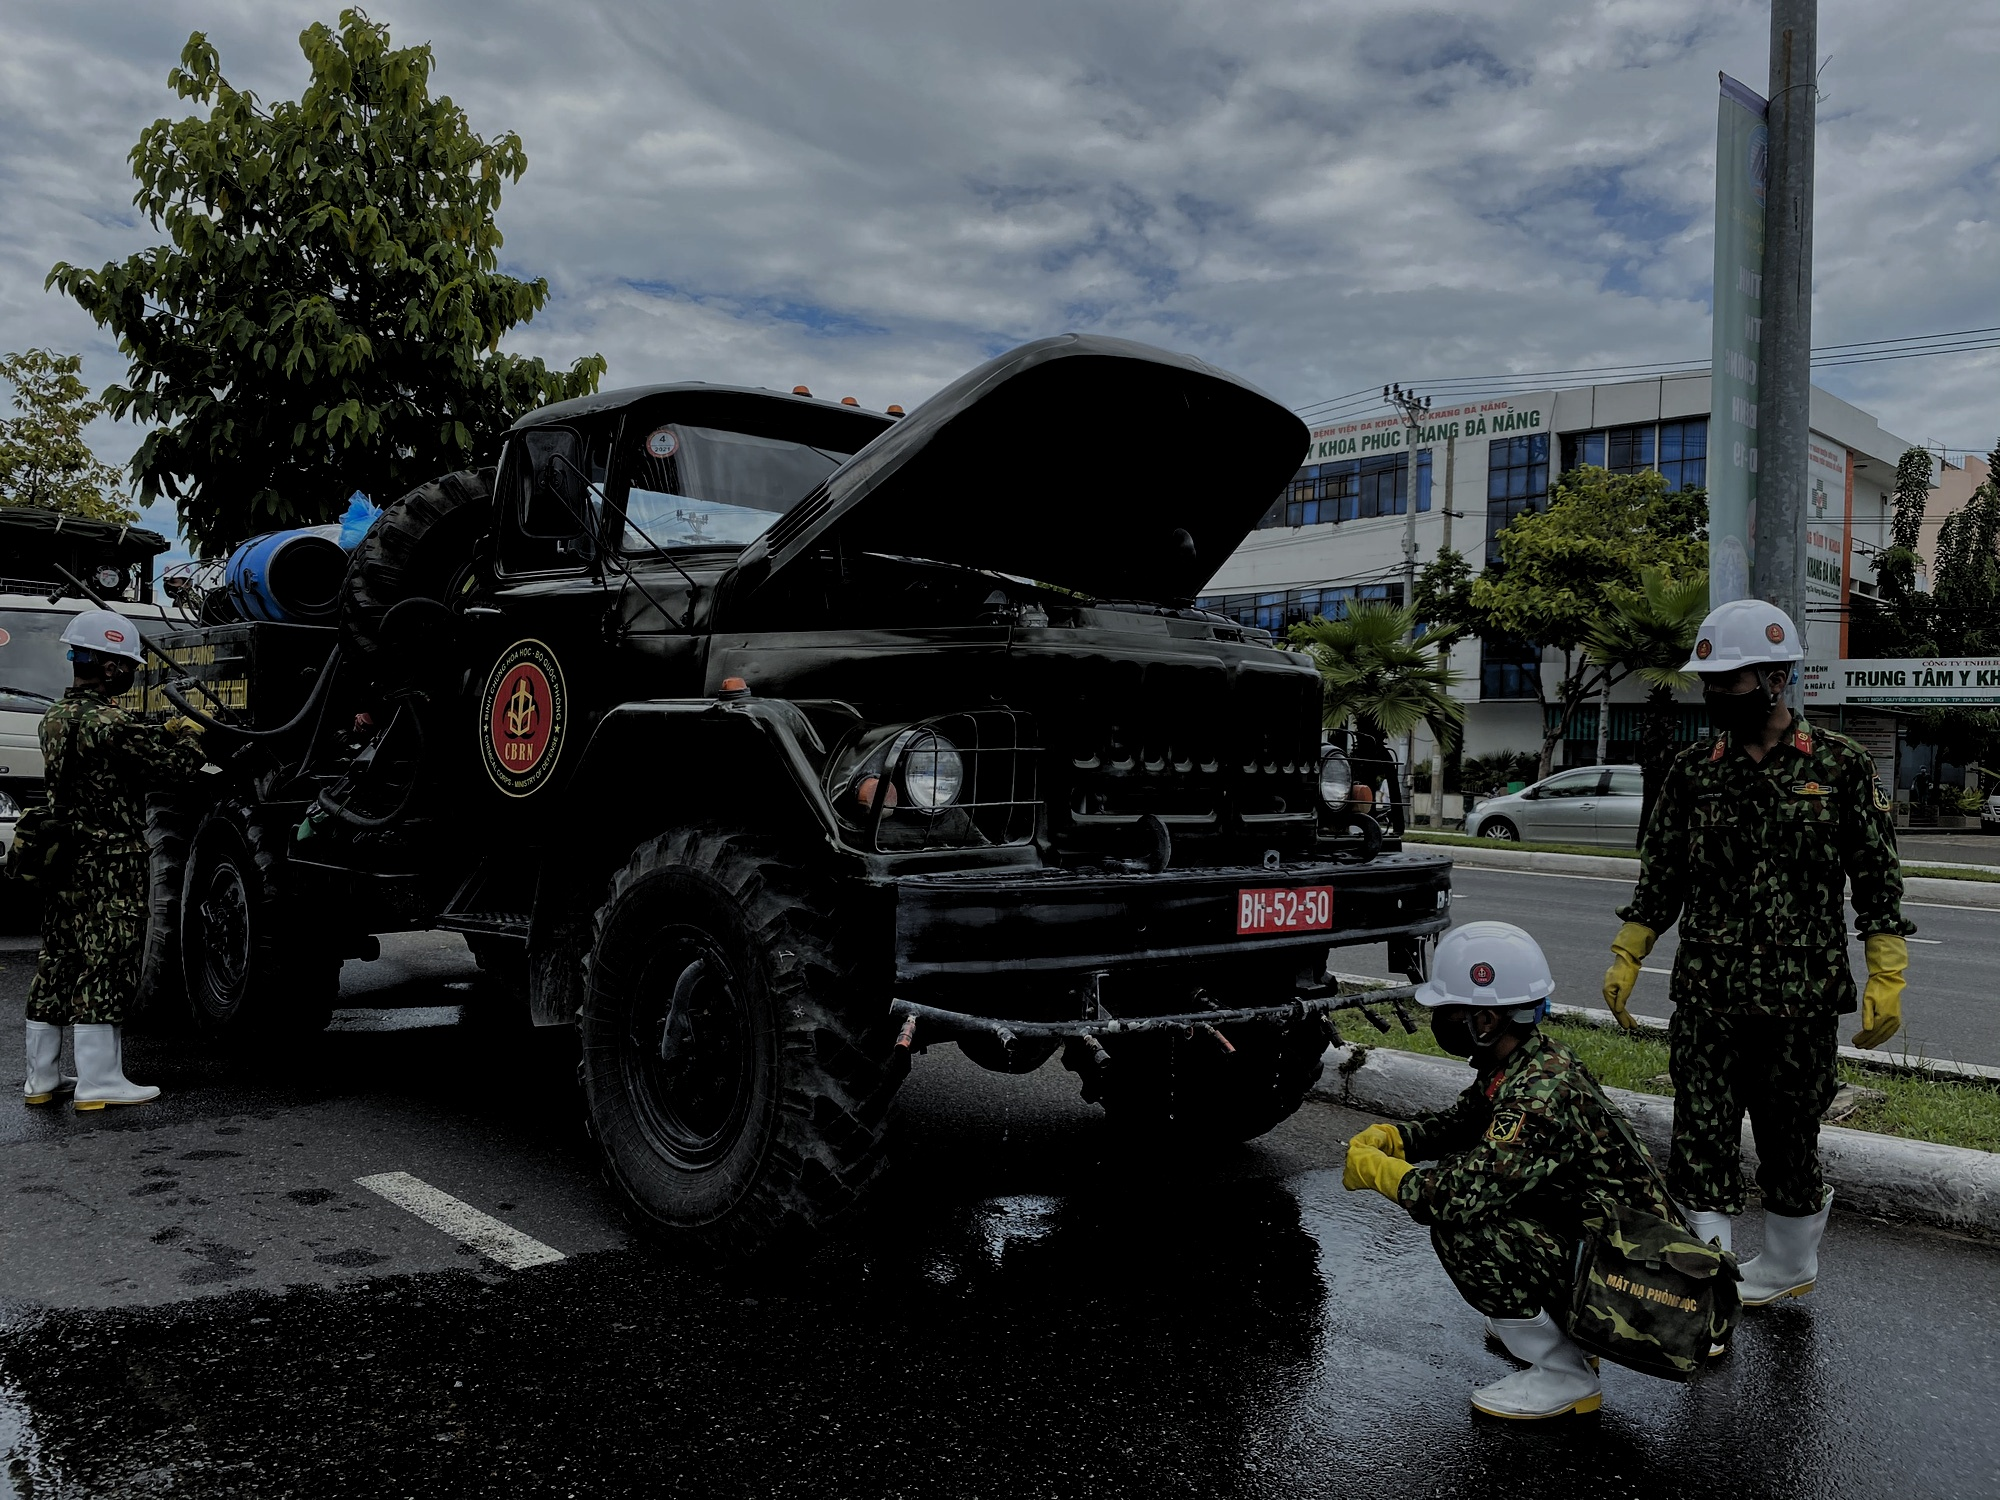plate: (1234, 884, 1339, 942)
